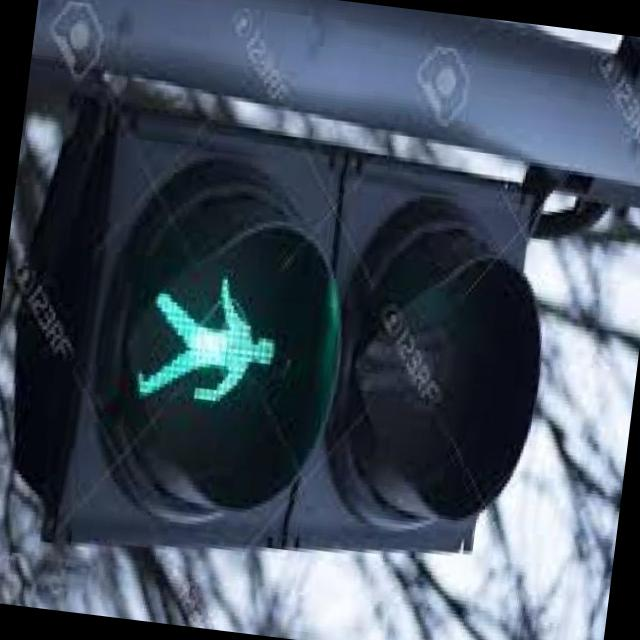green_light: (123, 270, 296, 420)
